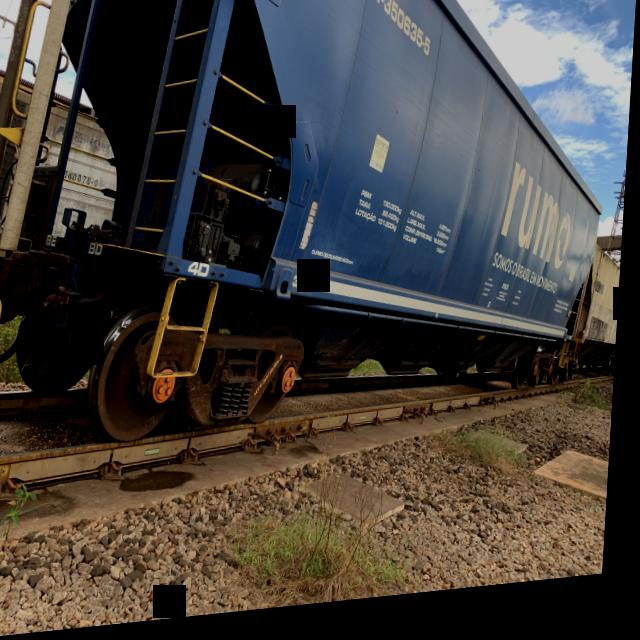hopper: (0, 0, 618, 466), (578, 251, 626, 395)
